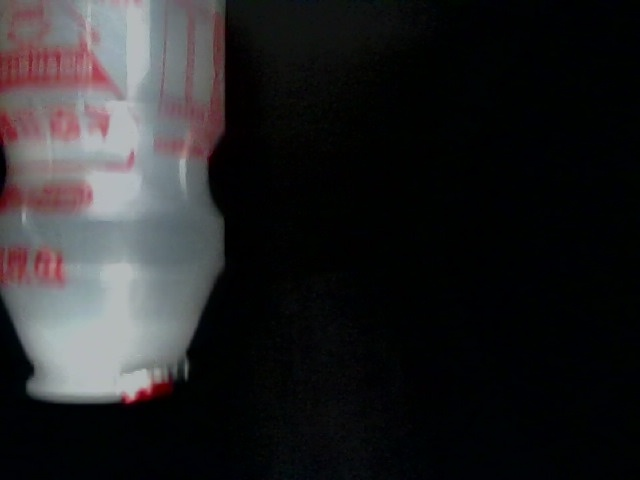CYLJ: (557, 210, 640, 320)
